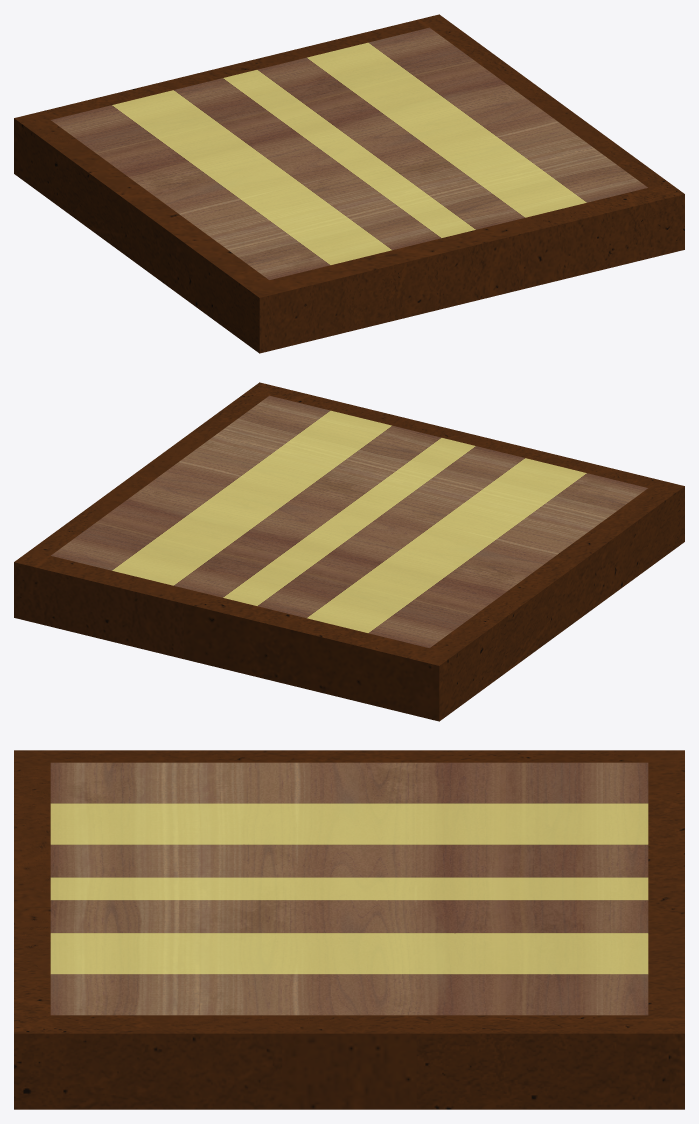
Rendered from wood_floor_straight.glb.
3 renders of one model, top to bottom at view 1: azimuth 30°, elevation 25°; view 2: azimuth 150°, elevation 25°; view 3: azimuth 270°, elevation 25°, orthographic. The views are drawn at different scales.
Visible parts, largest first — view 1: Brown_DarkWood, Concrete_WoodBrown, Base_TB1_BrownDarkWood; view 2: Brown_DarkWood, Concrete_WoodBrown, Base_TB1_BrownDarkWood; view 3: Brown_DarkWood, Concrete_WoodBrown, Base_TB1_BrownDarkWood.
Boxes of the visible parts, x1,y1,x2,y2 form: Brown_DarkWood: [51, 27, 647, 279]; Concrete_WoodBrown: [14, 14, 684, 353]; Base_TB1_BrownDarkWood: [18, 45, 611, 297]; Brown_DarkWood: [51, 395, 647, 647]; Concrete_WoodBrown: [14, 382, 684, 721]; Base_TB1_BrownDarkWood: [87, 413, 684, 721]; Brown_DarkWood: [50, 762, 648, 1015]; Concrete_WoodBrown: [14, 750, 684, 1109]; Base_TB1_BrownDarkWood: [14, 750, 684, 1109].
Size of the model in its own units: 2 by 0.26 by 2.
3 materials, 3 textured.
